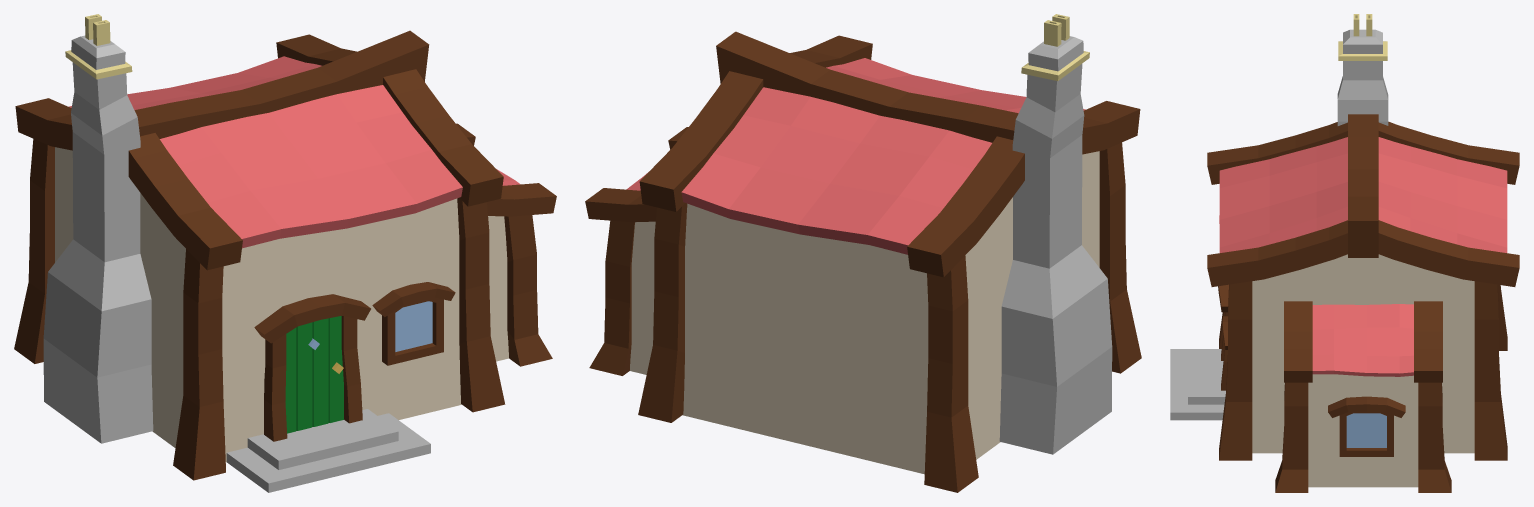
The model's file is house_02.1.fbx.
3 views of the same model, side by side, from view 1: azimuth 30°, elevation 25°; view 2: azimuth 150°, elevation 25°; view 3: azimuth 270°, elevation 25° (orthographic). The views are drawn at different scales.
Parts seen in each view (by area): view 1: Cube.026, Plane.002, chimney.001, Cube.014, Cube.016, Cube.020, Plane.001, Cube.012, Cube.023, Cube.013, Cube.017, Cube.015 (+4 smaller); view 2: Cube.026, Plane.002, chimney.001, Cube.014, Cube.016, Cube.020, Cube.023, Cube.021, Cube.022; view 3: Plane.002, Cube.026, Cube.016, Cube.014, Cube.021, Plane.003, Cube.023, Cube.022, Cube.020, chimney.001, Cube.024, Cube.013 (+2 smaller).
Part boxes in pixels (bbox=[...]): Cube.026: bbox=[55, 147, 461, 462]; Plane.002: bbox=[69, 56, 462, 248]; chimney.001: bbox=[43, 14, 153, 443]; Cube.014: bbox=[14, 139, 505, 480]; Cube.016: bbox=[15, 34, 503, 270]; Cube.020: bbox=[134, 30, 429, 138]; Plane.001: bbox=[285, 316, 343, 433]; Cube.012: bbox=[226, 413, 430, 492]; Cube.023: bbox=[504, 215, 552, 366]; Cube.013: bbox=[247, 409, 398, 469]; Cube.017: bbox=[264, 316, 362, 441]; Cube.015: bbox=[382, 297, 443, 365]; Cube.026: bbox=[682, 151, 1099, 474]; Plane.002: bbox=[681, 58, 1085, 254]; chimney.001: bbox=[999, 14, 1112, 454]; Cube.014: bbox=[638, 142, 1141, 492]; Cube.016: bbox=[639, 35, 1140, 277]; Cube.020: bbox=[716, 31, 1018, 142]; Cube.023: bbox=[589, 220, 634, 375]; Cube.021: bbox=[630, 221, 655, 374]; Cube.022: bbox=[585, 127, 688, 222]; Plane.002: bbox=[1219, 137, 1507, 252]; Cube.026: bbox=[1252, 254, 1474, 453]; Cube.016: bbox=[1207, 121, 1519, 286]; Cube.014: bbox=[1219, 281, 1507, 460]; Cube.021: bbox=[1308, 374, 1418, 487]; Plane.003: bbox=[1312, 304, 1413, 376]; Cube.023: bbox=[1275, 382, 1451, 492]; Cube.022: bbox=[1284, 301, 1442, 382]; Cube.020: bbox=[1348, 114, 1378, 257]; chimney.001: bbox=[1337, 14, 1388, 125]; Cube.024: bbox=[1339, 411, 1393, 456]; Cube.013: bbox=[1188, 349, 1225, 404].
Size of the model in its own units: 323 by 281 by 278.
